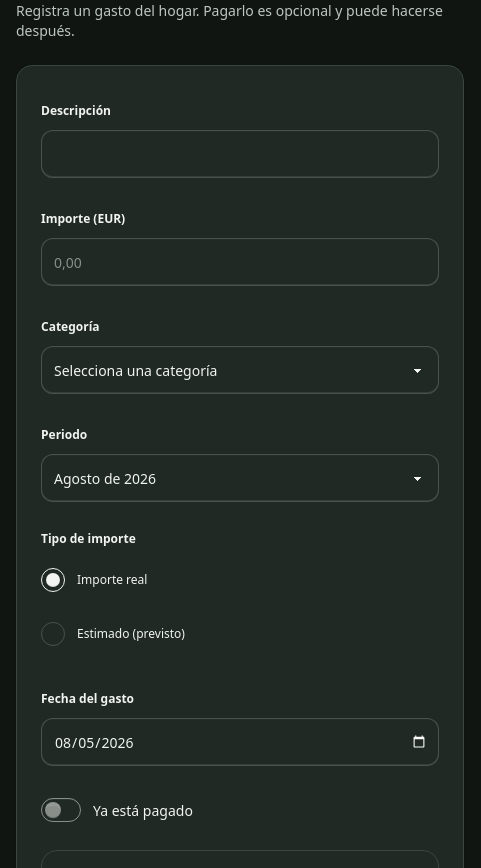
Scenario: NewExpensePage › shows the resolved allocation preview for both members
The width and height of the screenshot is (481, 868).
Type "100" into the field labelled "Importe (EUR)" at point(240, 262), box [41,238,439,286]
(page scrolled)
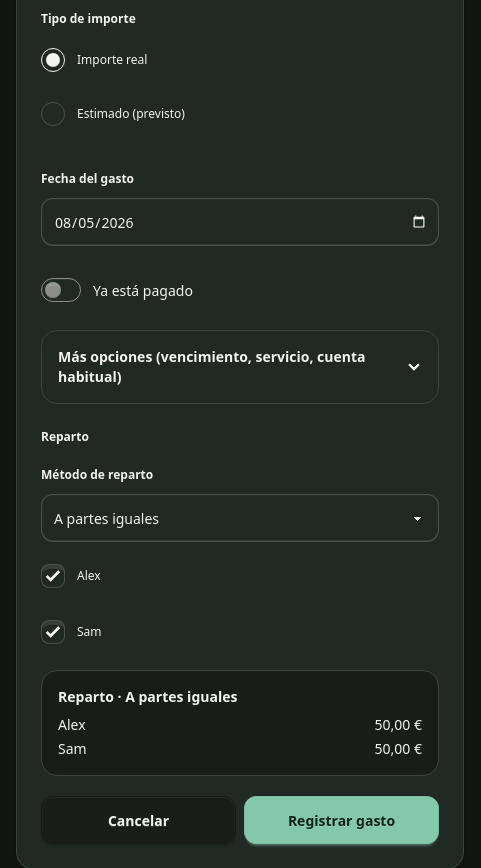
Now the text "Reparto · A partes iguales" is shown, box [58,687,237,706]
Now the text "50,00 €" is shown 2 times, box [375,715,422,735]; [375,739,422,759]
